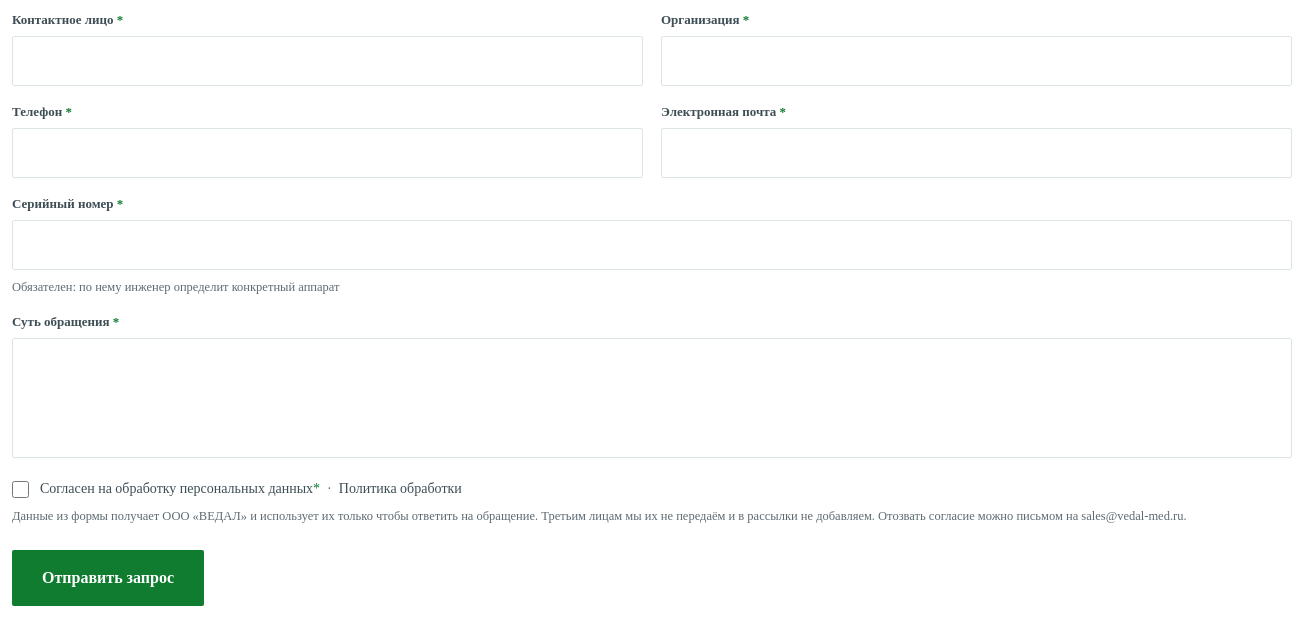
it: что уезжает с заявкой › сервисное обращение без номера не отправляется
In the field labelled "Контактное лицо *": (328, 61) [12, 36, 643, 86], type "Ольга Кузнецова"
In the field labelled "Организация *": (976, 61) [661, 36, 1292, 86], type "Роддом №2"
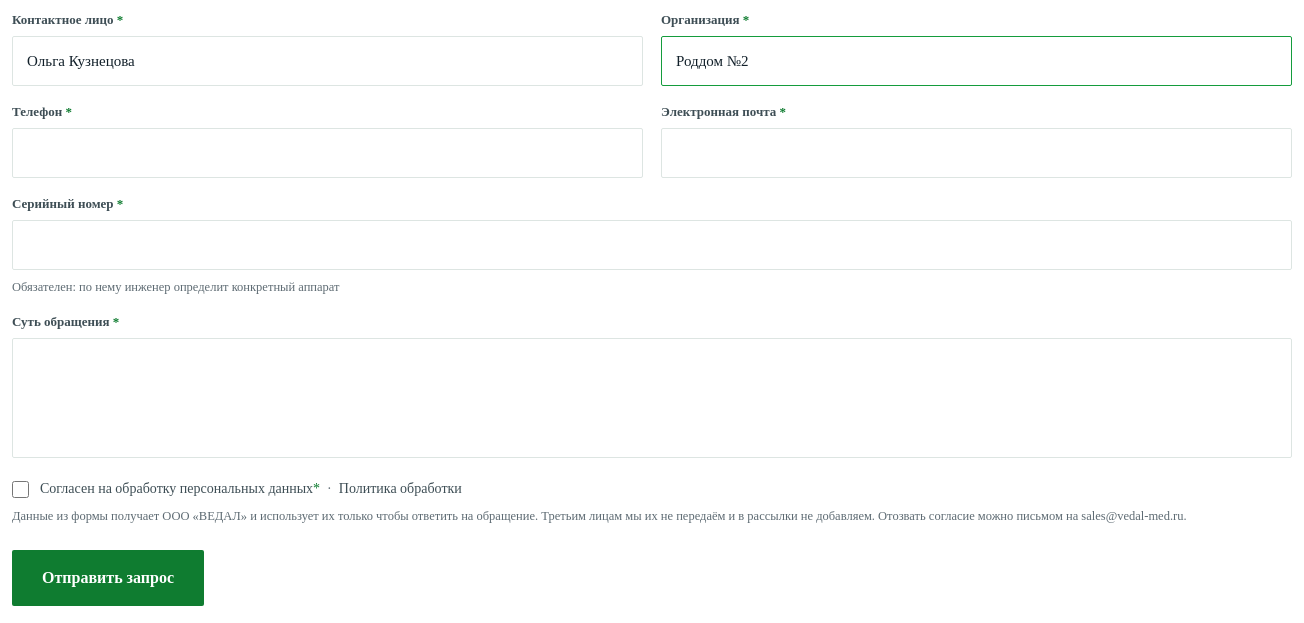
In the field labelled "Телефон *": (328, 153) [12, 128, 643, 178], type "+7 343 200 10 10"
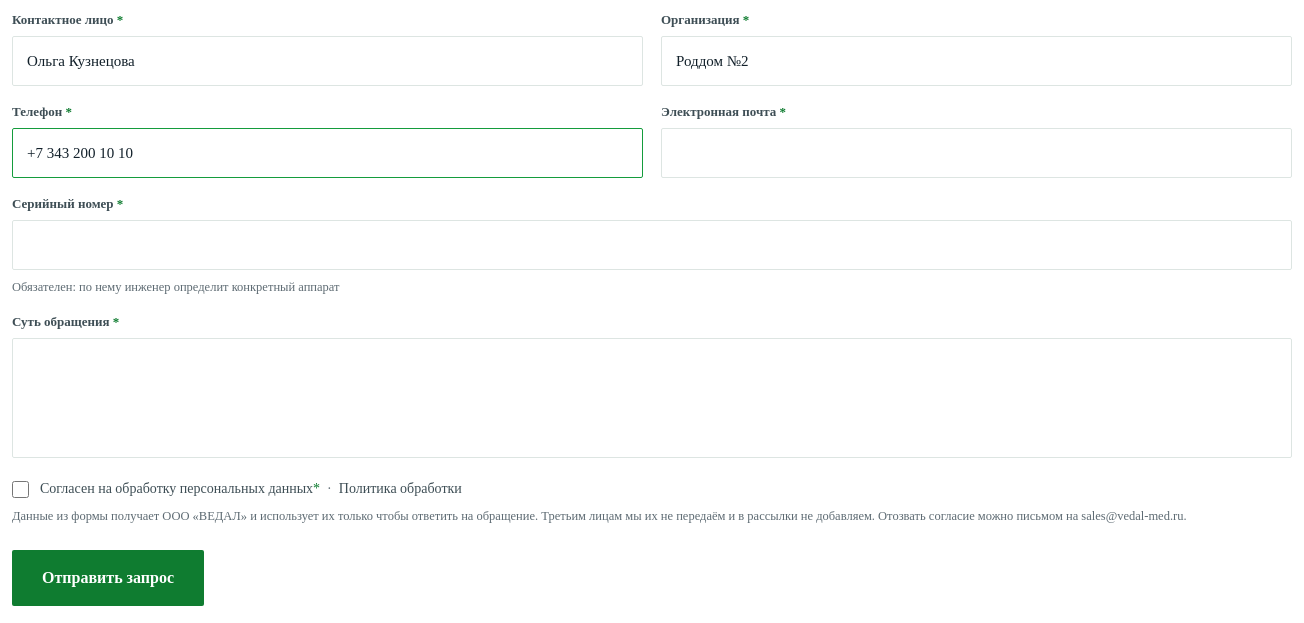
In the field labelled "Электронная почта *": (976, 153) [661, 128, 1292, 178], type "olga@rd2.ru"
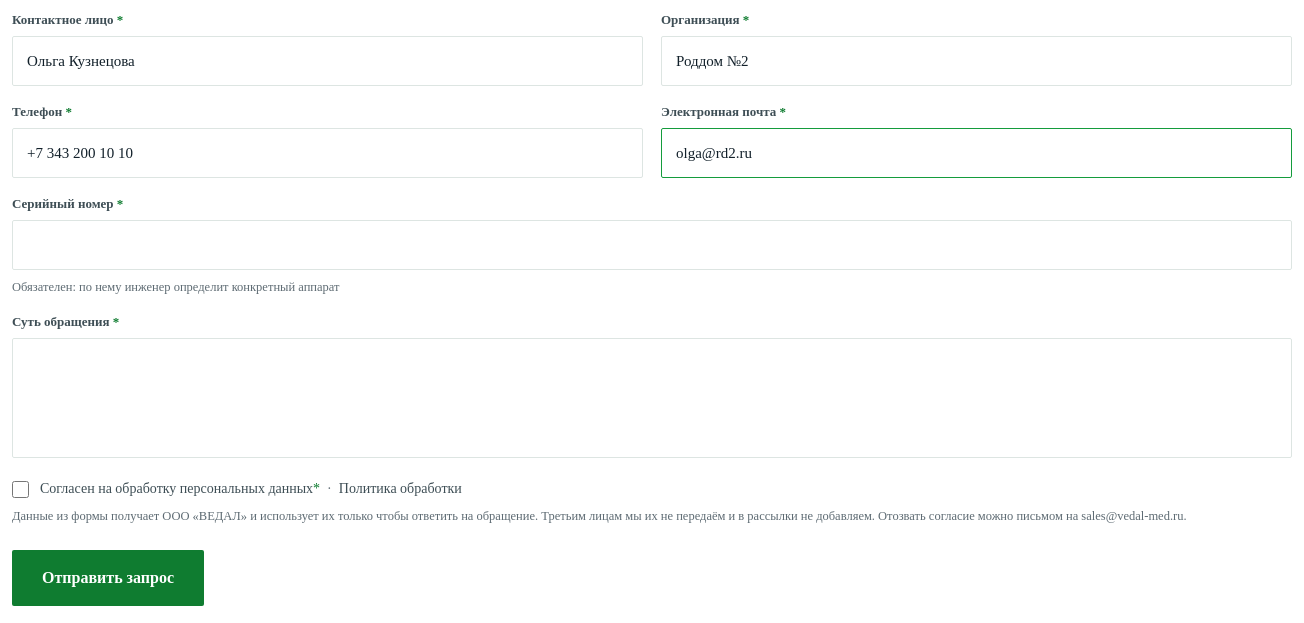
In the text box labelled "Суть обращения *": (652, 398) [12, 338, 1292, 458], type "Аппарат не выходит на режим после включения."
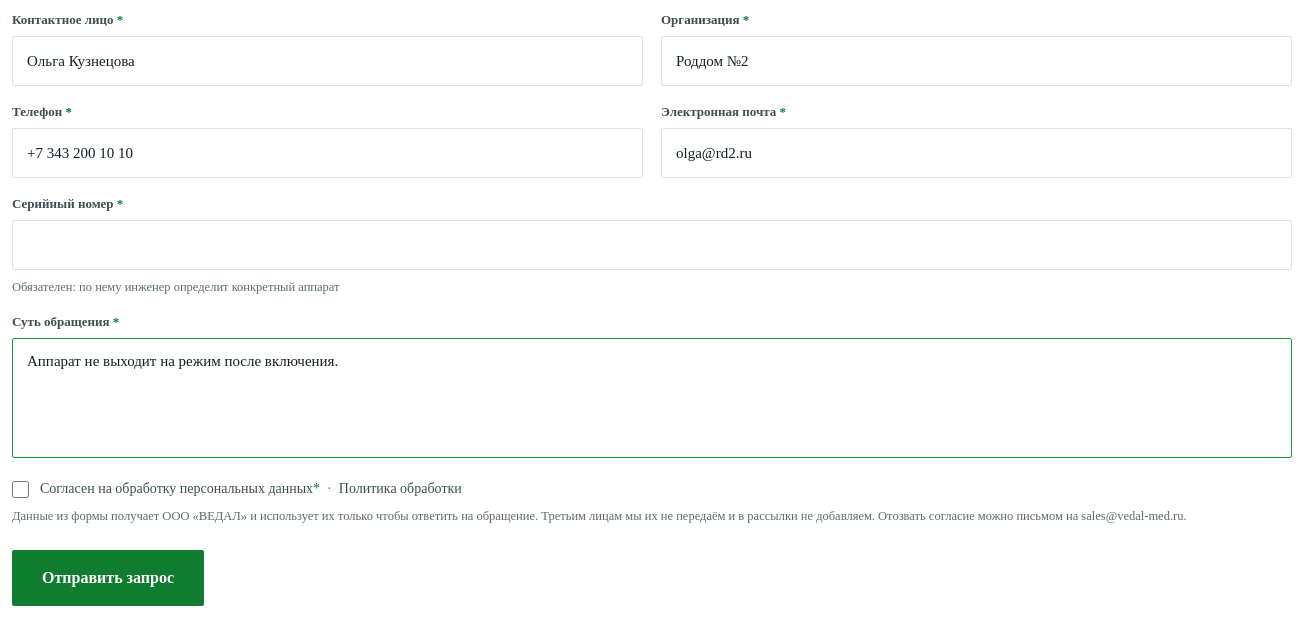
Click the checkbox: (20, 490) [12, 481, 29, 498]
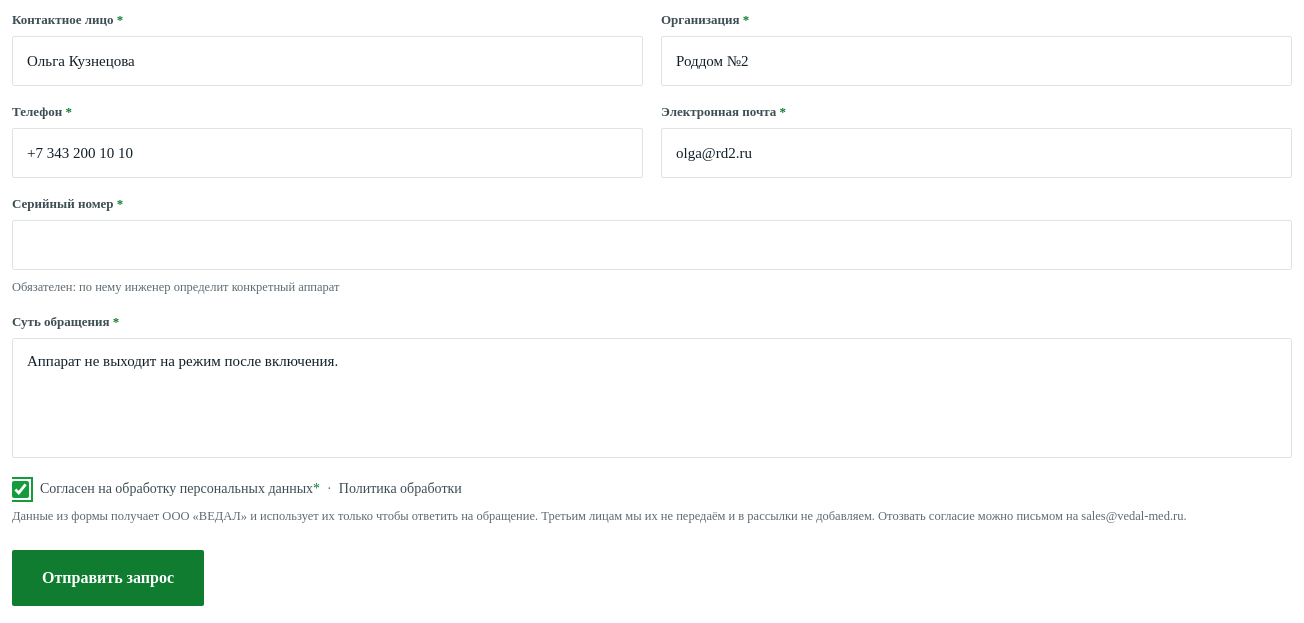
Click the button "Отправить запрос": (108, 578) [12, 550, 204, 606]
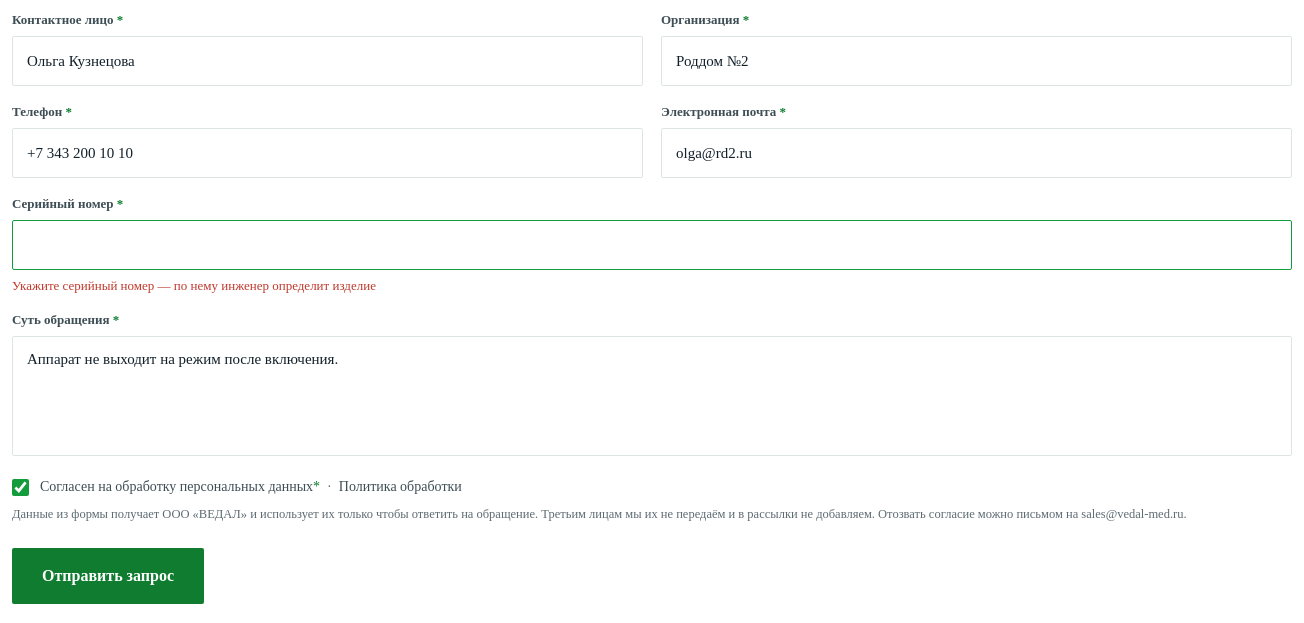
Result: the text "Укажите серийный номер — по нему инженер определит изделие" is shown at [12, 278, 376, 293]
